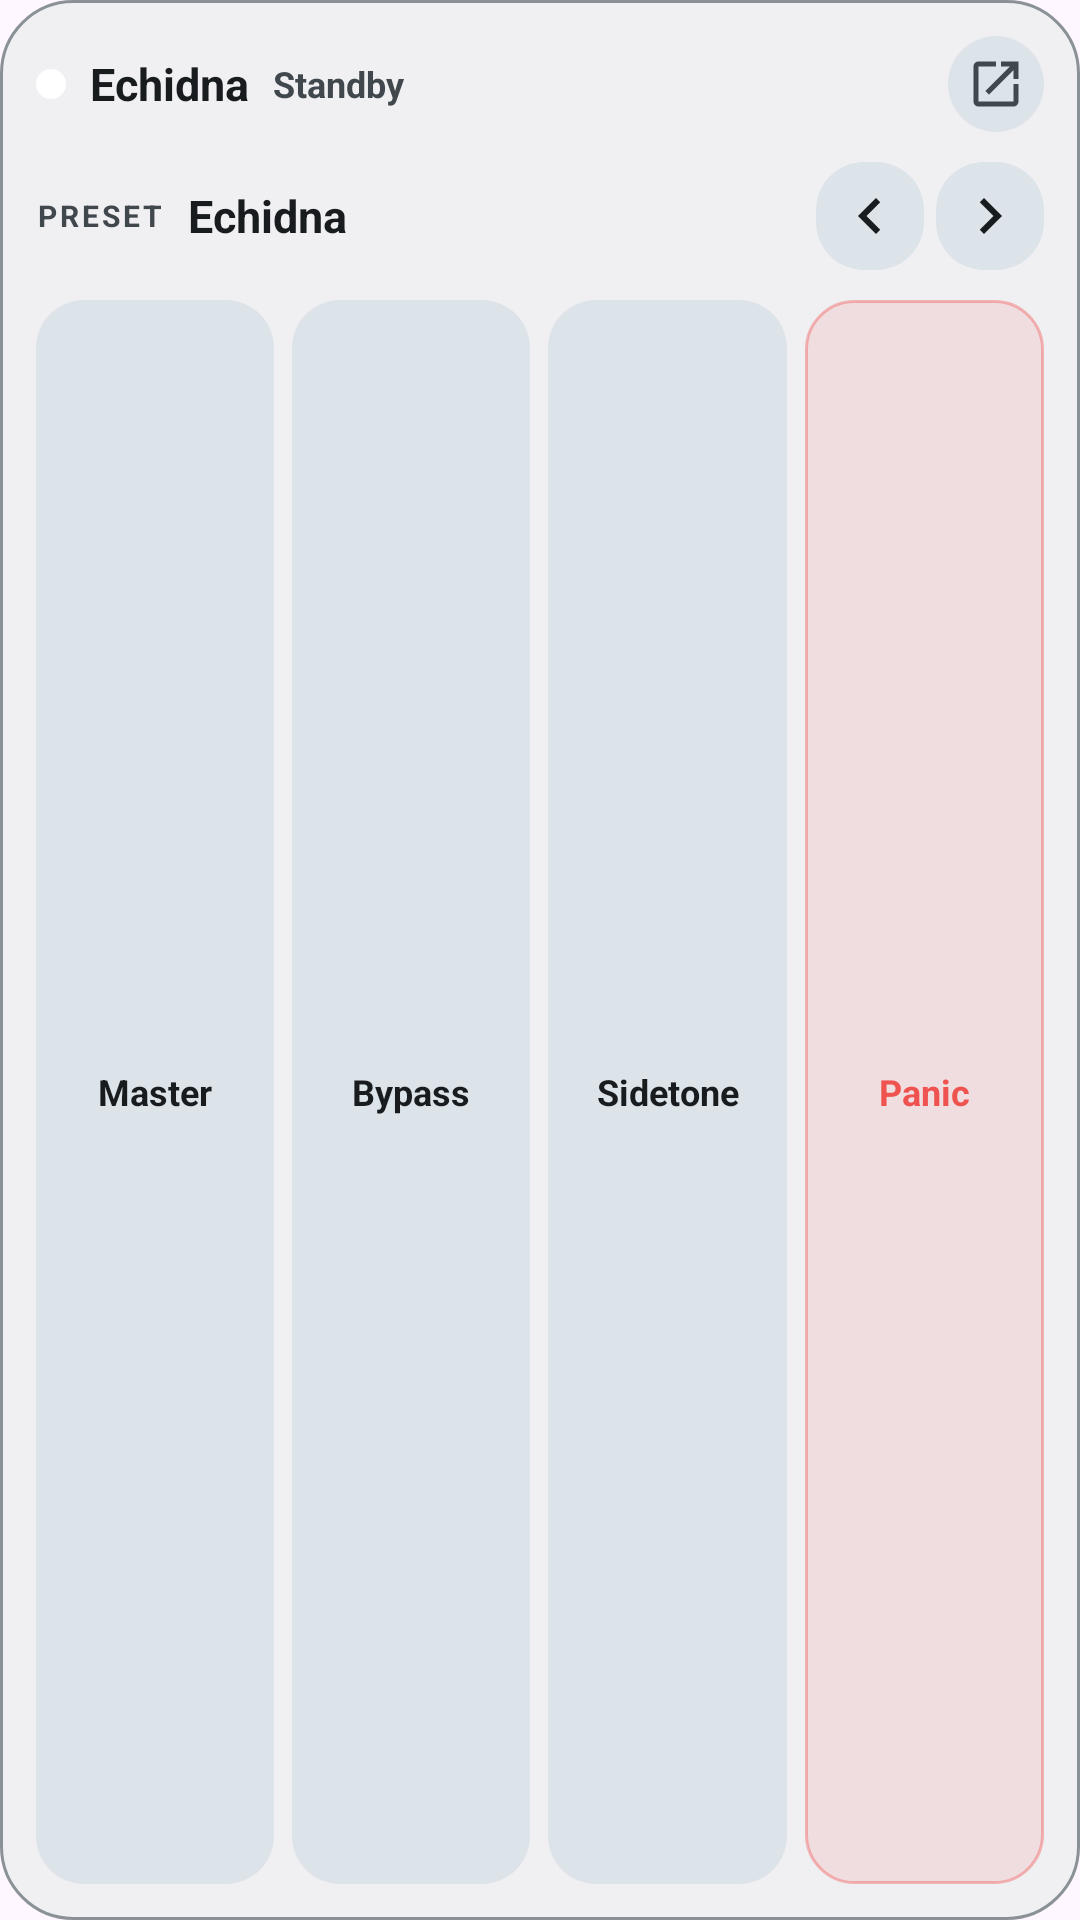

Screen size 1080 × 1920. Icon name, then its box in pixels as (x1, y1, x2, y2):
Next preset: (936, 162, 1044, 270)
Previous preset: (816, 162, 924, 270)
